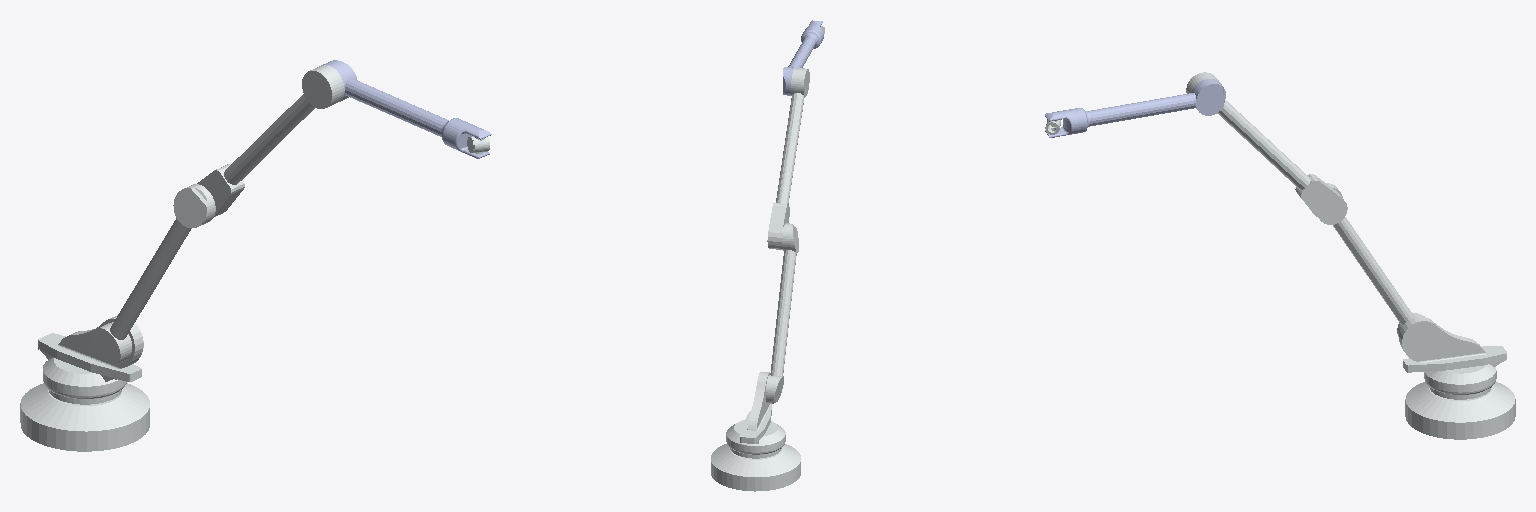
URDF robot description (Assem1_universal):
<?xml version="1.0" encoding="utf-8"?>
<!-- This URDF was automatically created by SolidWorks to URDF Exporter! Originally created by [author] ([email redacted]) 
     Commit Version: 1.6.0-4-g7f85cfe  Build Version: 1.6.7995.38578
     For more information, please see http://wiki.ros.org/sw_urdf_exporter -->
<robot
  name="Assem1_universal">
  <link
    name="base_link">
    <inertial>
      <origin
        xyz="0.296485796835353 -0.611898974441144 0.318944214640172"
        rpy="0 0 0" />
      <mass
        value="181.521223524418" />
      <inertia
        ixx="5.51881445393319"
        ixy="5.68950562251315E-32"
        ixz="-1.30000271246138E-31"
        iyy="5.51881445393319"
        iyz="4.25911933290988E-16"
        izz="9.88972581951903" />
    </inertial>
    <visual>
      <origin
        xyz="0 0 0"
        rpy="0 0 0" />
      <geometry>
        <mesh
          filename="package://Assem1_universal/meshes/base_link.STL" />
      </geometry>
      <material
        name="">
        <color
          rgba="0.898039215686275 0.917647058823529 0.929411764705882 1" />
      </material>
    </visual>
    <collision>
      <origin
        xyz="0 0 0"
        rpy="0 0 0" />
      <geometry>
        <mesh
          filename="package://Assem1_universal/meshes/base_link.STL" />
      </geometry>
    </collision>
  </link>
  <link
    name="link1">
    <inertial>
      <origin
        xyz="0.0507206032685569 0.188259194798284 0.00110984147920914"
        rpy="0 0 0" />
      <mass
        value="58.929995324725" />
      <inertia
        ixx="1.30216781385276"
        ixy="-0.481625078609562"
        ixz="-0.0043790215764947"
        iyy="2.05240641336218"
        iyz="-0.00797418189249532"
        izz="2.36610889031325" />
    </inertial>
    <visual>
      <origin
        xyz="0 0 0"
        rpy="0 0 0" />
      <geometry>
        <mesh
          filename="package://Assem1_universal/meshes/link1.STL" />
      </geometry>
      <material
        name="">
        <color
          rgba="0.898039215686275 0.917647058823529 0.929411764705882 1" />
      </material>
    </visual>
    <collision>
      <origin
        xyz="0 0 0"
        rpy="0 0 0" />
      <geometry>
        <mesh
          filename="package://Assem1_universal/meshes/link1.STL" />
      </geometry>
    </collision>
  </link>
  <joint
    name="joint 0"
    type="revolute">
    <origin
      xyz="0.29649 -0.6119 0.42817"
      rpy="1.5708 0 -1.2631" />
    <parent
      link="base_link" />
    <child
      link="link1" />
    <axis
      xyz="0 1 0" />
    <limit
      lower="-3.14"
      upper="3.14"
      effort="0"
      velocity="0" />
  </joint>
  <link
    name="link2">
    <inertial>
      <origin
        xyz="-0.592184811265197 -0.0908315253787347 -7.30949339944331E-09"
        rpy="0 0 0" />
      <mass
        value="14.6892193907076" />
      <inertia
        ixx="0.058482861182971"
        ixy="4.25759570134299E-09"
        ixz="-2.73676821569563E-08"
        iyy="0.430930332041447"
        iyz="3.77585007010905E-09"
        izz="0.396763126204725" />
    </inertial>
    <visual>
      <origin
        xyz="0 0 0"
        rpy="0 0 0" />
      <geometry>
        <mesh
          filename="package://Assem1_universal/meshes/link2.STL" />
      </geometry>
      <material
        name="">
        <color
          rgba="0.898039215686275 0.917647058823529 0.929411764705882 1" />
      </material>
    </visual>
    <collision>
      <origin
        xyz="0 0 0"
        rpy="0 0 0" />
      <geometry>
        <mesh
          filename="package://Assem1_universal/meshes/link2.STL" />
      </geometry>
    </collision>
  </link>
  <joint
    name="joint 1"
    type="revolute">
    <origin
      xyz="0.26922 0.38863 0"
      rpy="-1.5708 0 -2.1112" />
    <parent
      link="link1" />
    <child
      link="link2" />
    <axis
      xyz="0 1 0" />
    <limit
      lower="-3.14"
      upper="3.14"
      effort="0"
      velocity="0" />
  </joint>
  <link
    name="link 3">
    <inertial>
      <origin
        xyz="0.589010391335981 0.0201110258263087 -0.000885747449043572"
        rpy="0 0 0" />
      <mass
        value="23.5729079118835" />
      <inertia
        ixx="0.11704748465171"
        ixy="-0.0290376210439535"
        ixz="-0.00344333529009955"
        iyy="1.59119945867572"
        iyz="0.000125109454823913"
        izz="1.55992616436486" />
    </inertial>
    <visual>
      <origin
        xyz="0 0 0"
        rpy="0 0 0" />
      <geometry>
        <mesh
          filename="package://Assem1_universal/meshes/link 3.STL" />
      </geometry>
      <material
        name="">
        <color
          rgba="0.898039215686275 0.917647058823529 0.929411764705882 1" />
      </material>
    </visual>
    <collision>
      <origin
        xyz="0 0 0"
        rpy="0 0 0" />
      <geometry>
        <mesh
          filename="package://Assem1_universal/meshes/link 3.STL" />
      </geometry>
    </collision>
  </link>
  <joint
    name="joint 2"
    type="revolute">
    <origin
      xyz="-1.1822 0 0"
      rpy="3.1416 -0.19008 -3.1416" />
    <parent
      link="link2" />
    <child
      link="link 3" />
    <axis
      xyz="0 1 0" />
    <limit
      lower="-3.14"
      upper="3.14"
      effort="0"
      velocity="0" />
  </joint>
  <link
    name="link 4">
    <inertial>
      <origin
        xyz="-0.00350901194985509 0.444290690237279 -0.0699239602138977"
        rpy="0 0 0" />
      <mass
        value="4.7422733749791" />
      <inertia
        ixx="0.0668146172266336"
        ixy="6.6343183442658E-05"
        ixz="0.000309777723202941"
        iyy="0.0189783890803951"
        iyz="0.00078173736771283"
        izz="0.0749808653607735" />
    </inertial>
    <visual>
      <origin
        xyz="0 0 0"
        rpy="0 0 0" />
      <geometry>
        <mesh
          filename="package://Assem1_universal/meshes/link 4.STL" />
      </geometry>
      <material
        name="">
        <color
          rgba="0.792156862745098 0.819607843137255 0.933333333333333 1" />
      </material>
    </visual>
    <collision>
      <origin
        xyz="0 0 0"
        rpy="0 0 0" />
      <geometry>
        <mesh
          filename="package://Assem1_universal/meshes/link 4.STL" />
      </geometry>
    </collision>
  </link>
  <joint
    name="joint 3"
    type="revolute">
    <origin
      xyz="1.2508 0.056145 0"
      rpy="-1.5304 0.68813 -3.0781" />
    <parent
      link="link 3" />
    <child
      link="link 4" />
    <axis
      xyz="0.049037 0 0.9988" />
    <limit
      lower="-3.14"
      upper="3.14"
      effort="0"
      velocity="0" />
  </joint>
  <link
    name="link 5">
    <inertial>
      <origin
        xyz="-1.15186862714722E-07 -0.00290333942894883 -0.00103896172427165"
        rpy="0 0 0" />
      <mass
        value="0.761354400003499" />
      <inertia
        ixx="0.00112625497805474"
        ixy="-2.41542571835225E-09"
        ixz="9.63054909442008E-10"
        iyy="0.00124823563907516"
        iyz="1.65024365820752E-07"
        izz="0.00106990091896965" />
    </inertial>
    <visual>
      <origin
        xyz="0 0 0"
        rpy="0 0 0" />
      <geometry>
        <mesh
          filename="package://Assem1_universal/meshes/link 5.STL" />
      </geometry>
      <material
        name="">
        <color
          rgba="0.898039215686275 0.917647058823529 0.929411764705882 1" />
      </material>
    </visual>
    <collision>
      <origin
        xyz="0 0 0"
        rpy="0 0 0" />
      <geometry>
        <mesh
          filename="package://Assem1_universal/meshes/link 5.STL" />
      </geometry>
    </collision>
  </link>
  <joint
    name="joint 4"
    type="revolute">
    <origin
      xyz="0 1.0454 -0.070575"
      rpy="1.5708 -0.4488 1.5708" />
    <parent
      link="link 4" />
    <child
      link="link 5" />
    <axis
      xyz="0 0 1" />
    <limit
      lower="-3.14"
      upper="3.14"
      effort="0"
      velocity="0" />
  </joint>
  <link
    name="link6">
    <inertial>
      <origin
        xyz="0 0.0220625297833468 1.50990331349021E-14"
        rpy="0 0 0" />
      <mass
        value="0.2351717720661" />
      <inertia
        ixx="0.00010836728862395"
        ixy="9.90181515340277E-19"
        ixz="3.3881317890172E-21"
        iyy="0.000206387616600977"
        iyz="4.02340649945793E-19"
        izz="0.00010836728862395" />
    </inertial>
    <visual>
      <origin
        xyz="0 0 0"
        rpy="0 0 0" />
      <geometry>
        <mesh
          filename="package://Assem1_universal/meshes/link6.STL" />
      </geometry>
      <material
        name="">
        <color
          rgba="0.898039215686275 0.917647058823529 0.929411764705882 1" />
      </material>
    </visual>
    <collision>
      <origin
        xyz="0 0 0"
        rpy="0 0 0" />
      <geometry>
        <mesh
          filename="package://Assem1_universal/meshes/link6.STL" />
      </geometry>
    </collision>
  </link>
  <joint
    name="joint 5"
    type="revolute">
    <origin
      xyz="0 0.021359 -0.00096493"
      rpy="0 0.75918 0" />
    <parent
      link="link 5" />
    <child
      link="link6" />
    <axis
      xyz="0 1 0" />
    <limit
      lower="-3.14"
      upper="3.14"
      effort="0"
      velocity="0" />
  </joint>
</robot>

--- What the picture shows (computed from the rendered views, not written in the file) ---
Views: 3 orthographic renders of the robot side by side, from view 1: azimuth 30°, elevation 25°; view 2: azimuth 150°, elevation 25°; view 3: azimuth 270°, elevation 25°.
Model Assem1_universal with 7 links and 6 joints (6 revolute), rooted at base_link, posed every joint at zero.
Links seen in each view (by area): view 1: base_link, link1, link2, link 3, link 4; view 2: base_link, link 3, link1, link2, link 4; view 3: link1, base_link, link 3, link 4, link2.
Link boxes in pixels (bbox=[...]): base_link: bbox=[20, 383, 149, 451]; link1: bbox=[37, 315, 143, 404]; link2: bbox=[93, 184, 215, 364]; link 3: bbox=[197, 65, 344, 216]; link 4: bbox=[323, 60, 491, 158]; base_link: bbox=[711, 444, 800, 491]; link 3: bbox=[767, 68, 809, 249]; link1: bbox=[726, 372, 785, 458]; link2: bbox=[765, 223, 798, 403]; link 4: bbox=[783, 20, 823, 95]; link1: bbox=[1399, 317, 1506, 399]; base_link: bbox=[1405, 382, 1515, 439]; link 3: bbox=[1186, 72, 1347, 224]; link 4: bbox=[1045, 79, 1225, 137]; link2: bbox=[1309, 183, 1424, 336].
Bounding box of the posed robot: 1.36 × 3 × 2.64 m (x, y, z).
Meshes: 7 distinct files referenced, 7 mesh visuals loaded (7 binary STL).
